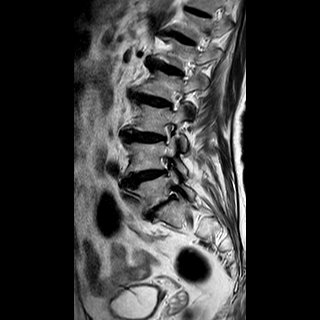LFS0: (154, 116, 179, 148), (161, 85, 186, 115)
LFS2: (150, 151, 178, 182)
